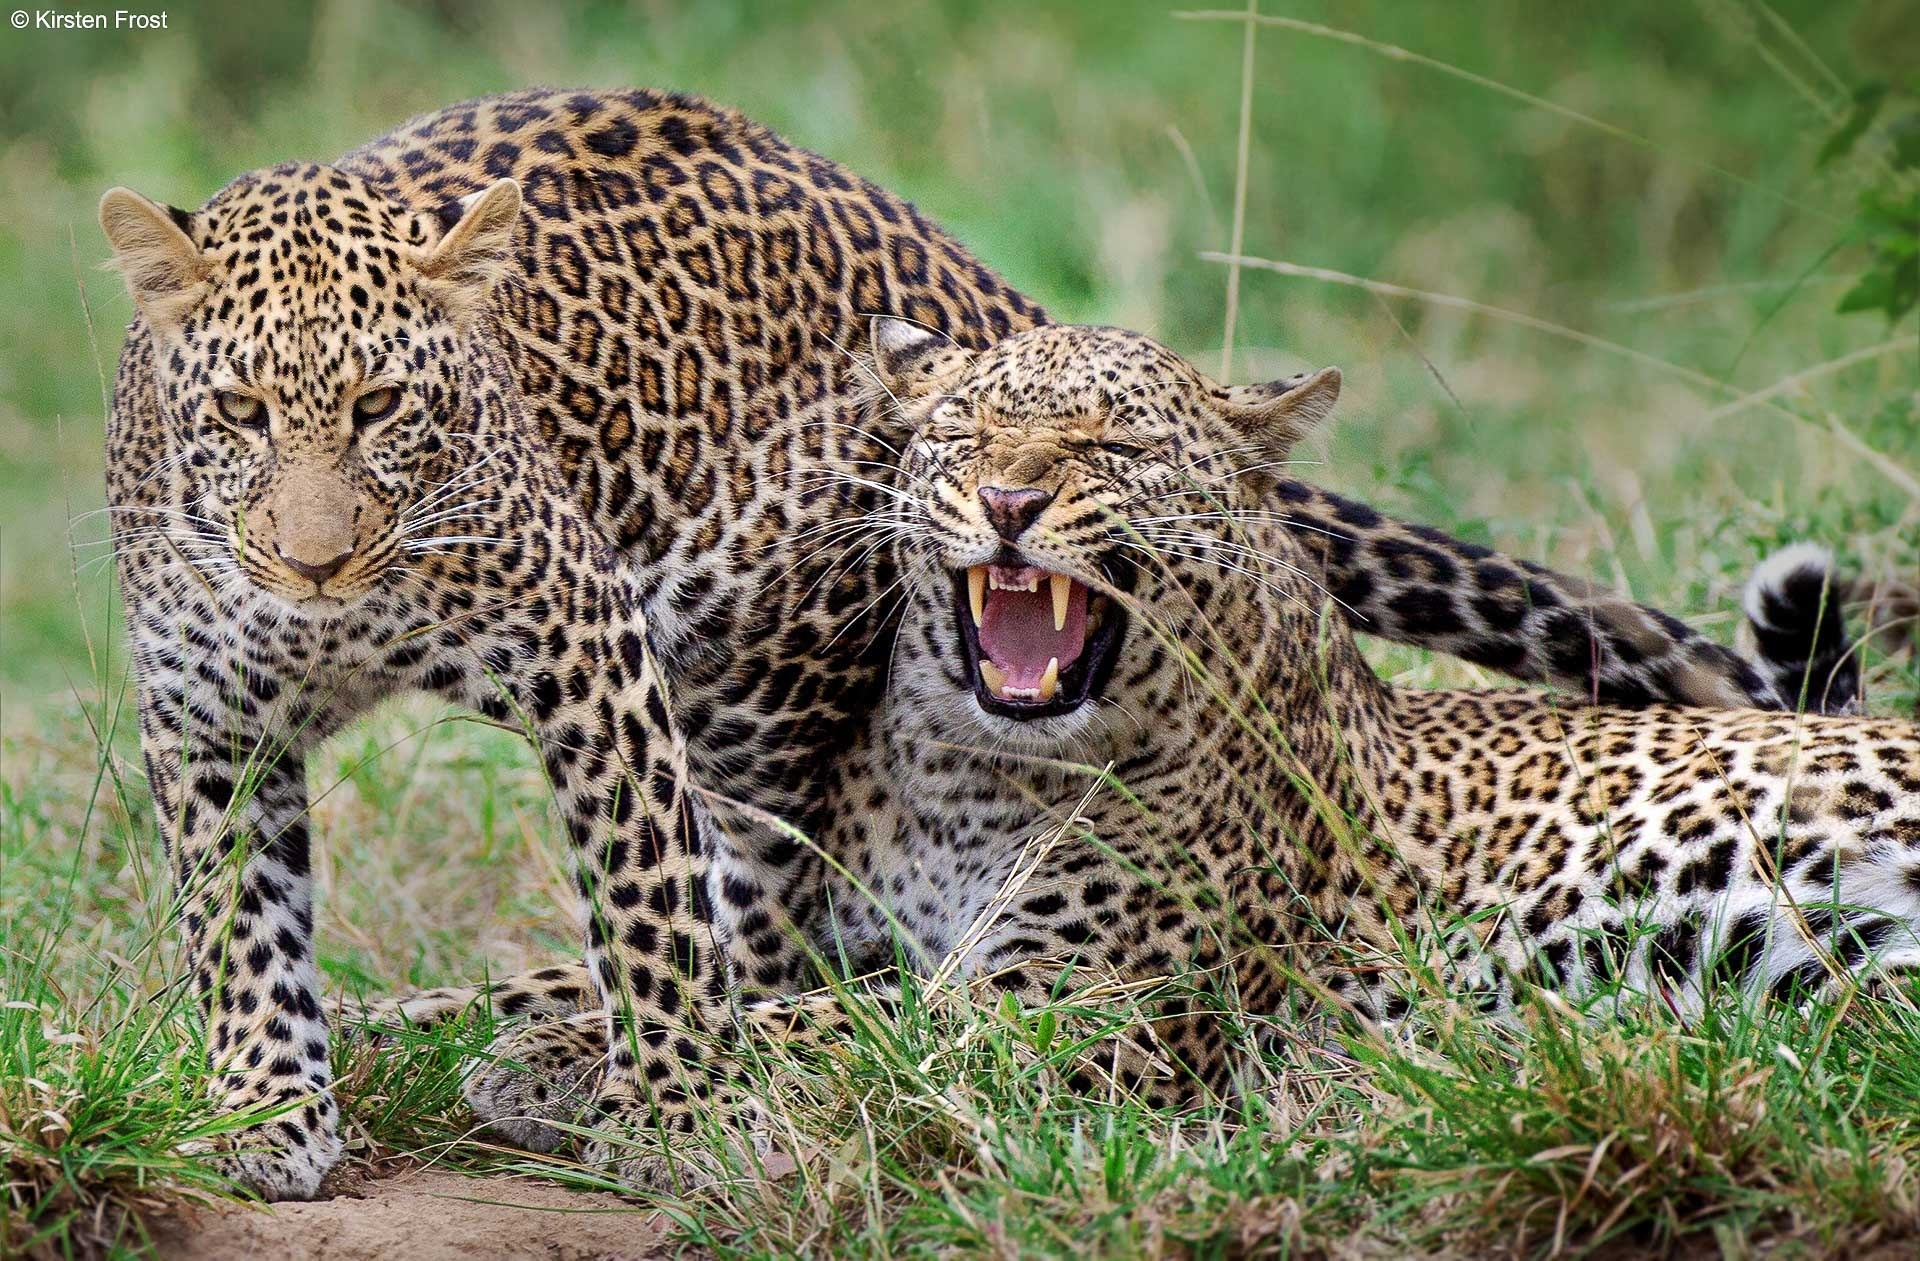leopard: (89, 77, 1881, 1215), (456, 303, 1919, 1184)
